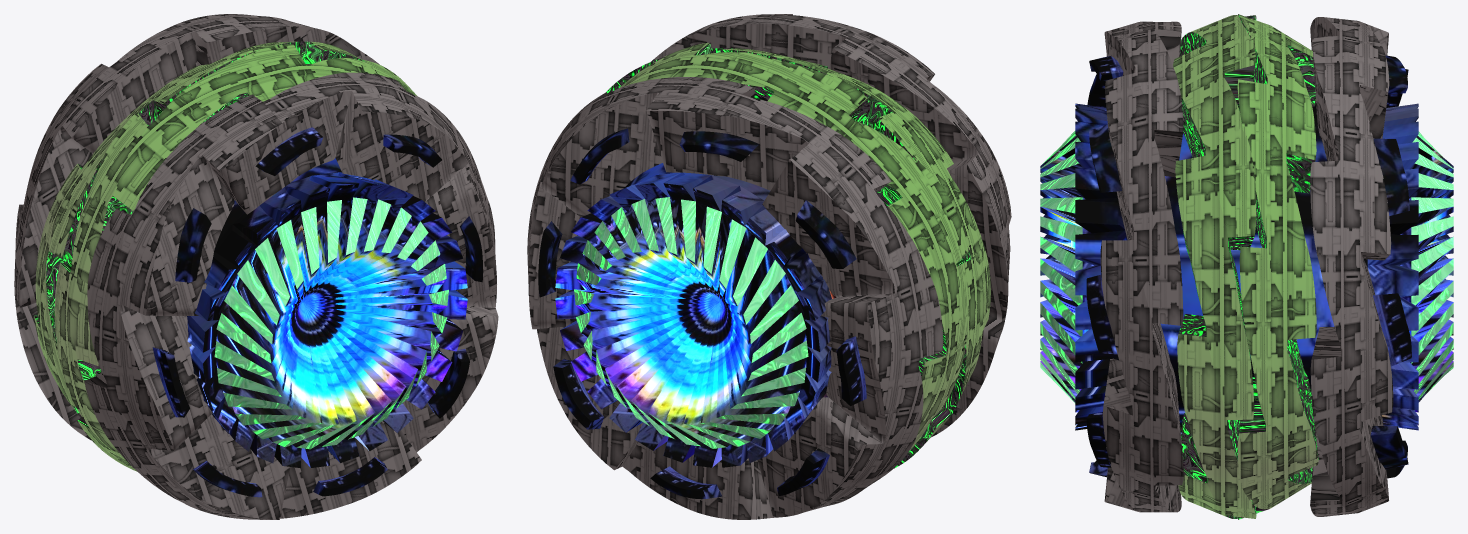
The model's file is RollingBalls_Sci-fi_4_2.glb.
3 renders of one model, left to right at view 1: azimuth 30°, elevation 25°; view 2: azimuth 150°, elevation 25°; view 3: azimuth 270°, elevation 25°, orthographic. The views are drawn at different scales.
Visible parts, largest first — view 1: RollingBalls_Sci-fi_4_2; view 2: RollingBalls_Sci-fi_4_2; view 3: RollingBalls_Sci-fi_4_2.
Part boxes in pixels (x1,y1,x2,y2): RollingBalls_Sci-fi_4_2: [14, 14, 498, 519]; RollingBalls_Sci-fi_4_2: [527, 14, 1011, 519]; RollingBalls_Sci-fi_4_2: [1040, 14, 1453, 519].
Bounding box in the file's own units: 1.72 × 1.72 × 1.4.
Materials: 7 (6 with a texture image).
